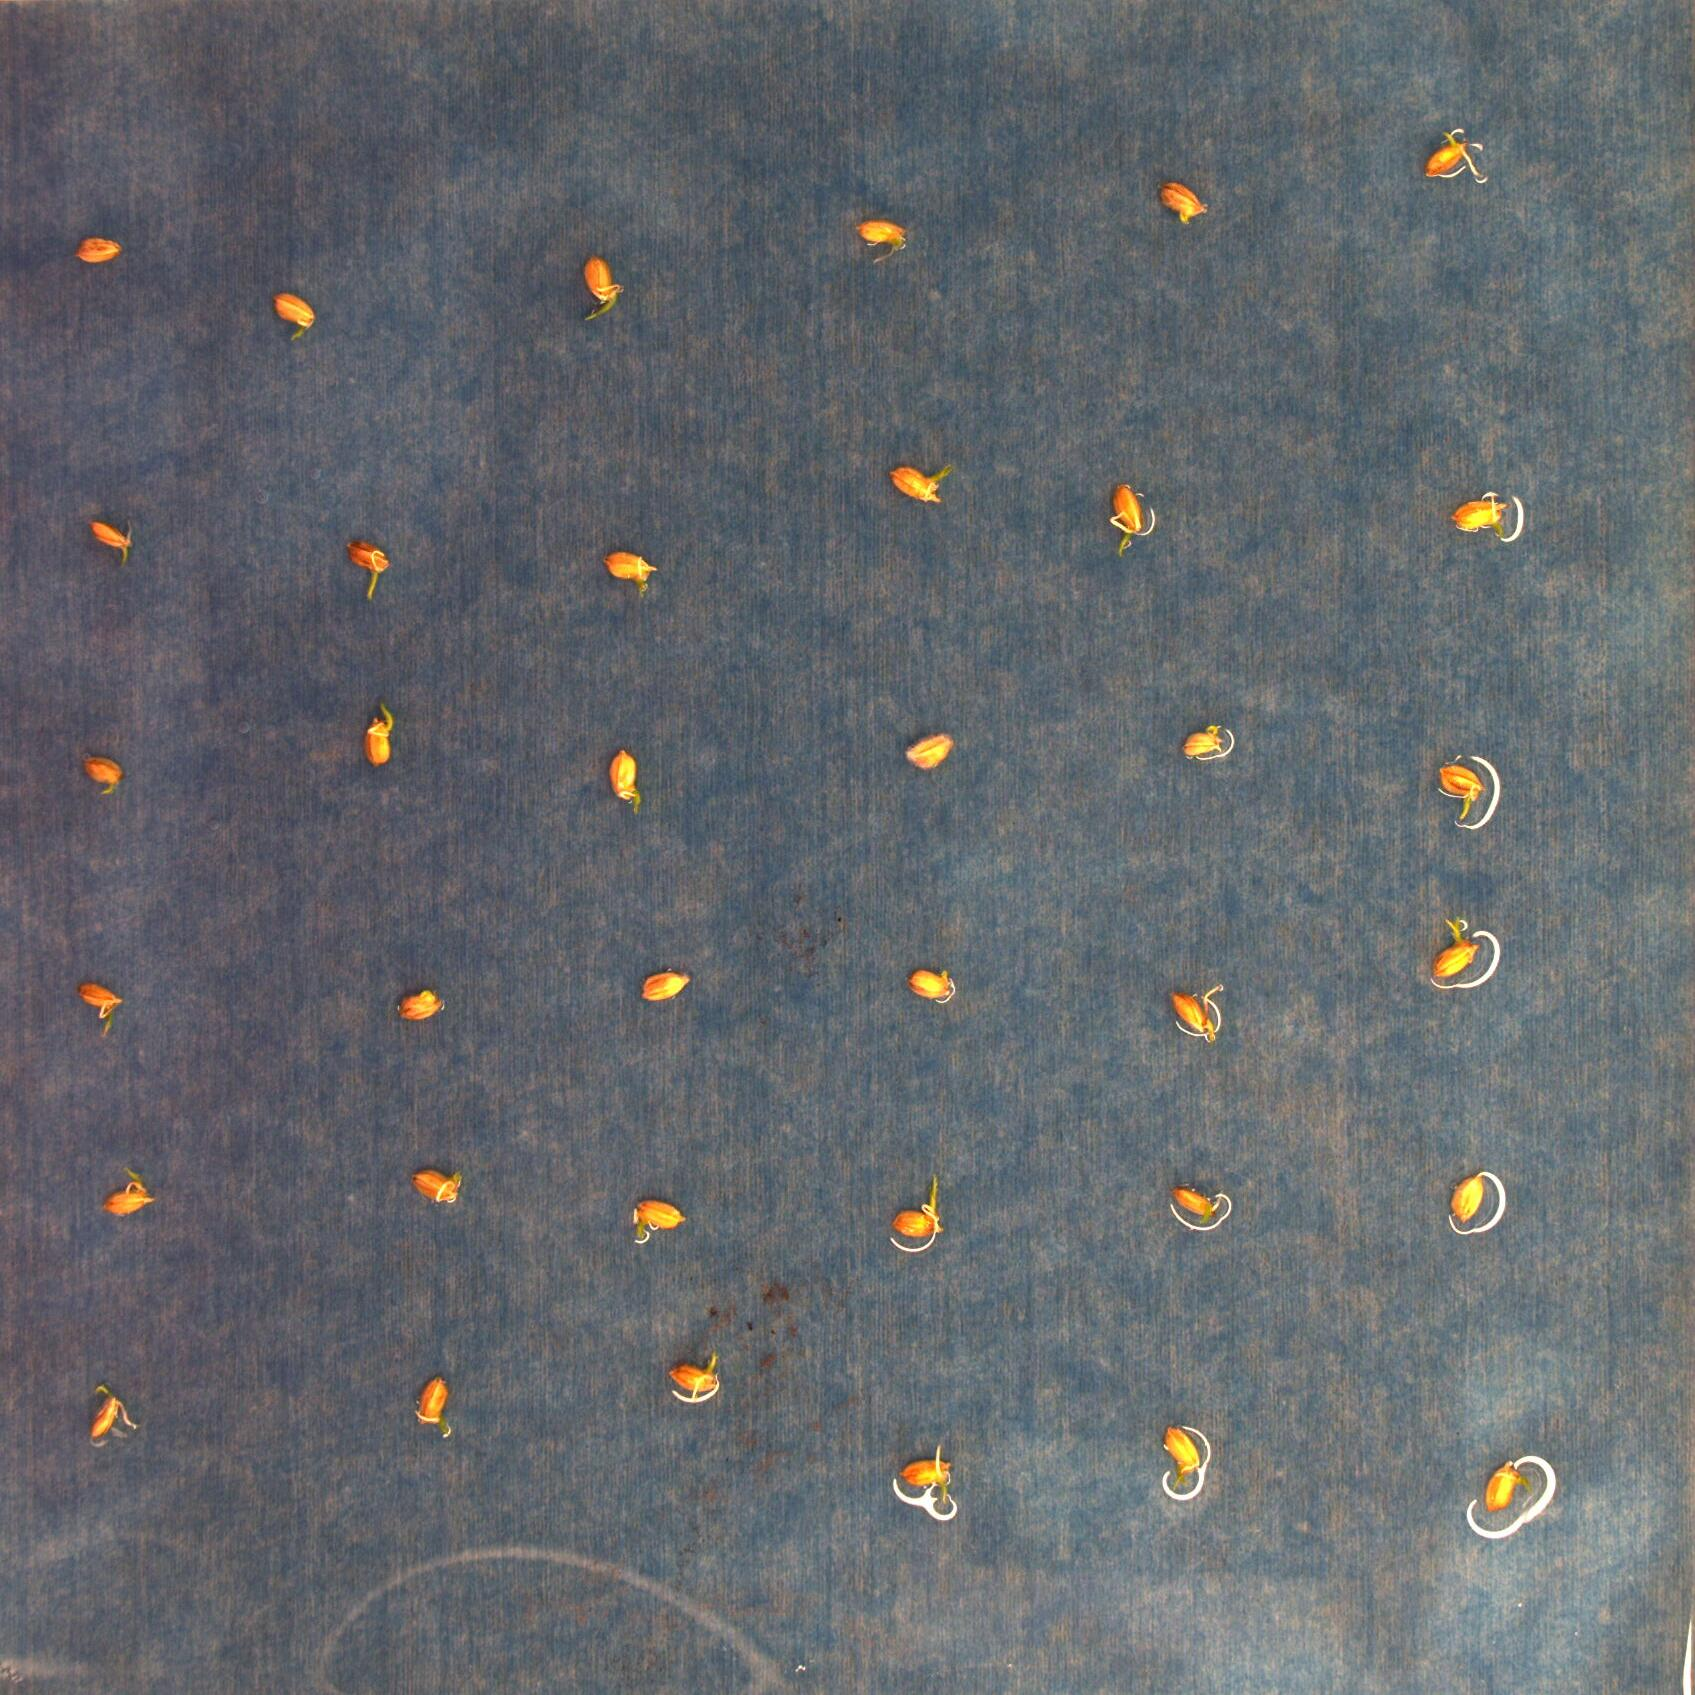not sprout: (1437, 754, 1485, 820), (1156, 175, 1208, 227), (601, 549, 655, 598), (75, 975, 126, 1023), (99, 1166, 151, 1214), (1445, 1173, 1492, 1226), (1169, 1186, 1225, 1229), (1482, 1458, 1524, 1509), (75, 754, 126, 795), (414, 1374, 449, 1430), (900, 734, 955, 768), (413, 1163, 464, 1198), (397, 990, 449, 1023), (903, 961, 950, 997), (278, 293, 312, 341), (1181, 723, 1226, 759), (70, 233, 120, 264), (636, 964, 686, 995)
sprout: (1159, 1419, 1208, 1501), (1423, 127, 1487, 183), (889, 1177, 942, 1243), (900, 1444, 953, 1509), (1428, 914, 1476, 984), (1107, 483, 1150, 559), (629, 1194, 689, 1245), (888, 463, 956, 508), (88, 1383, 138, 1442), (1169, 983, 1217, 1042), (607, 744, 644, 815), (664, 1354, 719, 1402), (349, 536, 390, 599), (88, 508, 133, 563), (355, 700, 394, 764), (1451, 490, 1509, 531), (585, 258, 616, 320), (857, 224, 908, 256)
